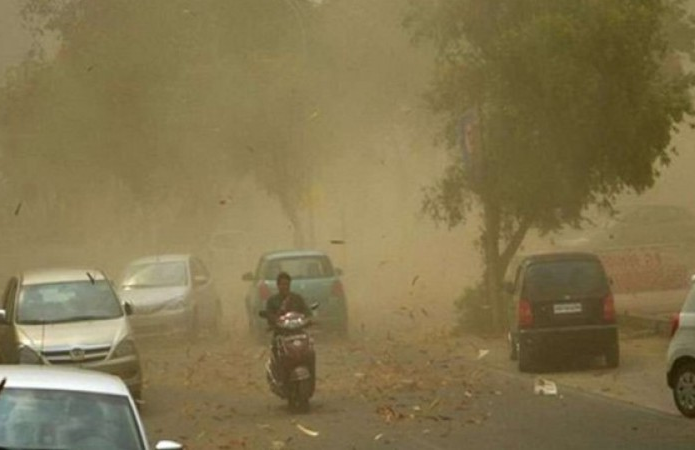car: (4, 267, 141, 376), (0, 360, 167, 447), (503, 252, 621, 372), (114, 251, 221, 341), (555, 191, 692, 240), (246, 248, 339, 320), (668, 265, 690, 418), (204, 230, 258, 268)
motorcycle: (258, 297, 320, 410)
person: (260, 270, 317, 376)
